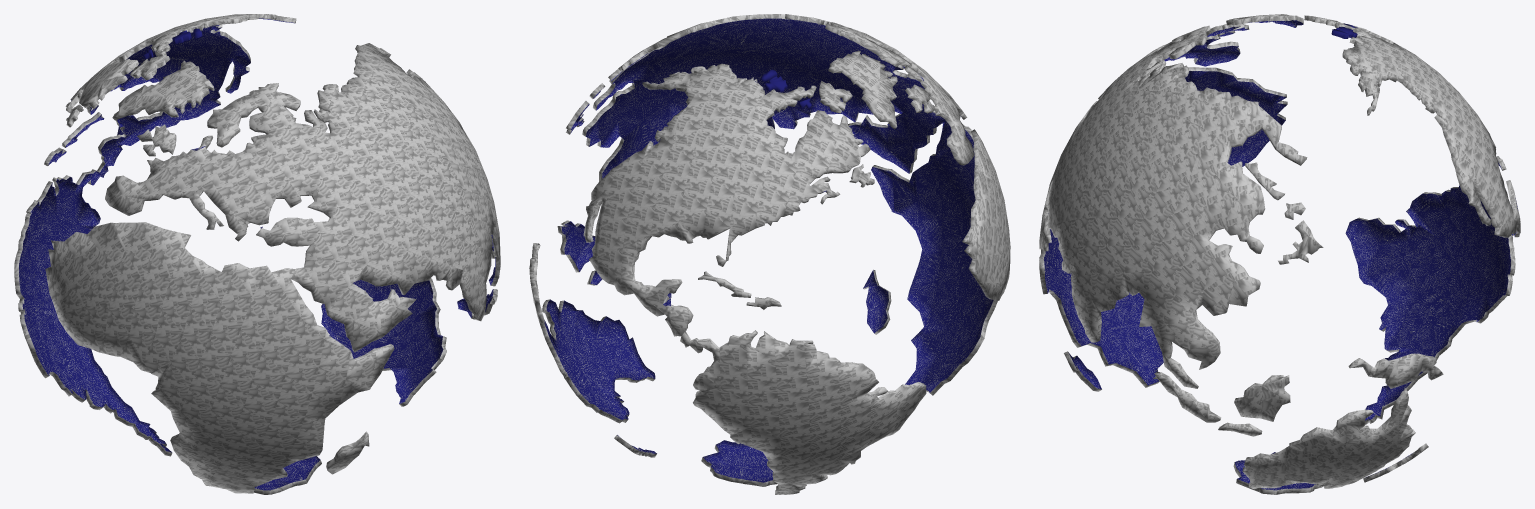
The model's file is earth.dae.
3 views of the same model, side by side, from view 1: azimuth 30°, elevation 25°; view 2: azimuth 150°, elevation 25°; view 3: azimuth 270°, elevation 25° (orthographic).
Parts seen in each view (by area): view 1: GeoSphere1; view 2: GeoSphere1; view 3: GeoSphere1.
Boxes of the visible parts, bbox=[...] form: GeoSphere1: bbox=[14, 14, 500, 494]; GeoSphere1: bbox=[529, 14, 1010, 494]; GeoSphere1: bbox=[1039, 14, 1520, 494].
Size of the model in its own units: 104 by 104 by 103.
2 materials, 1 textured.
